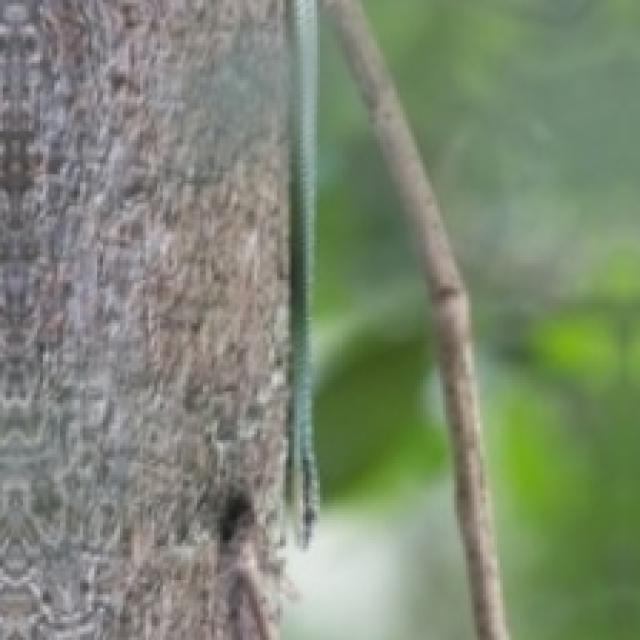paradise tree snake: (0, 0, 311, 637), (289, 0, 317, 546)
